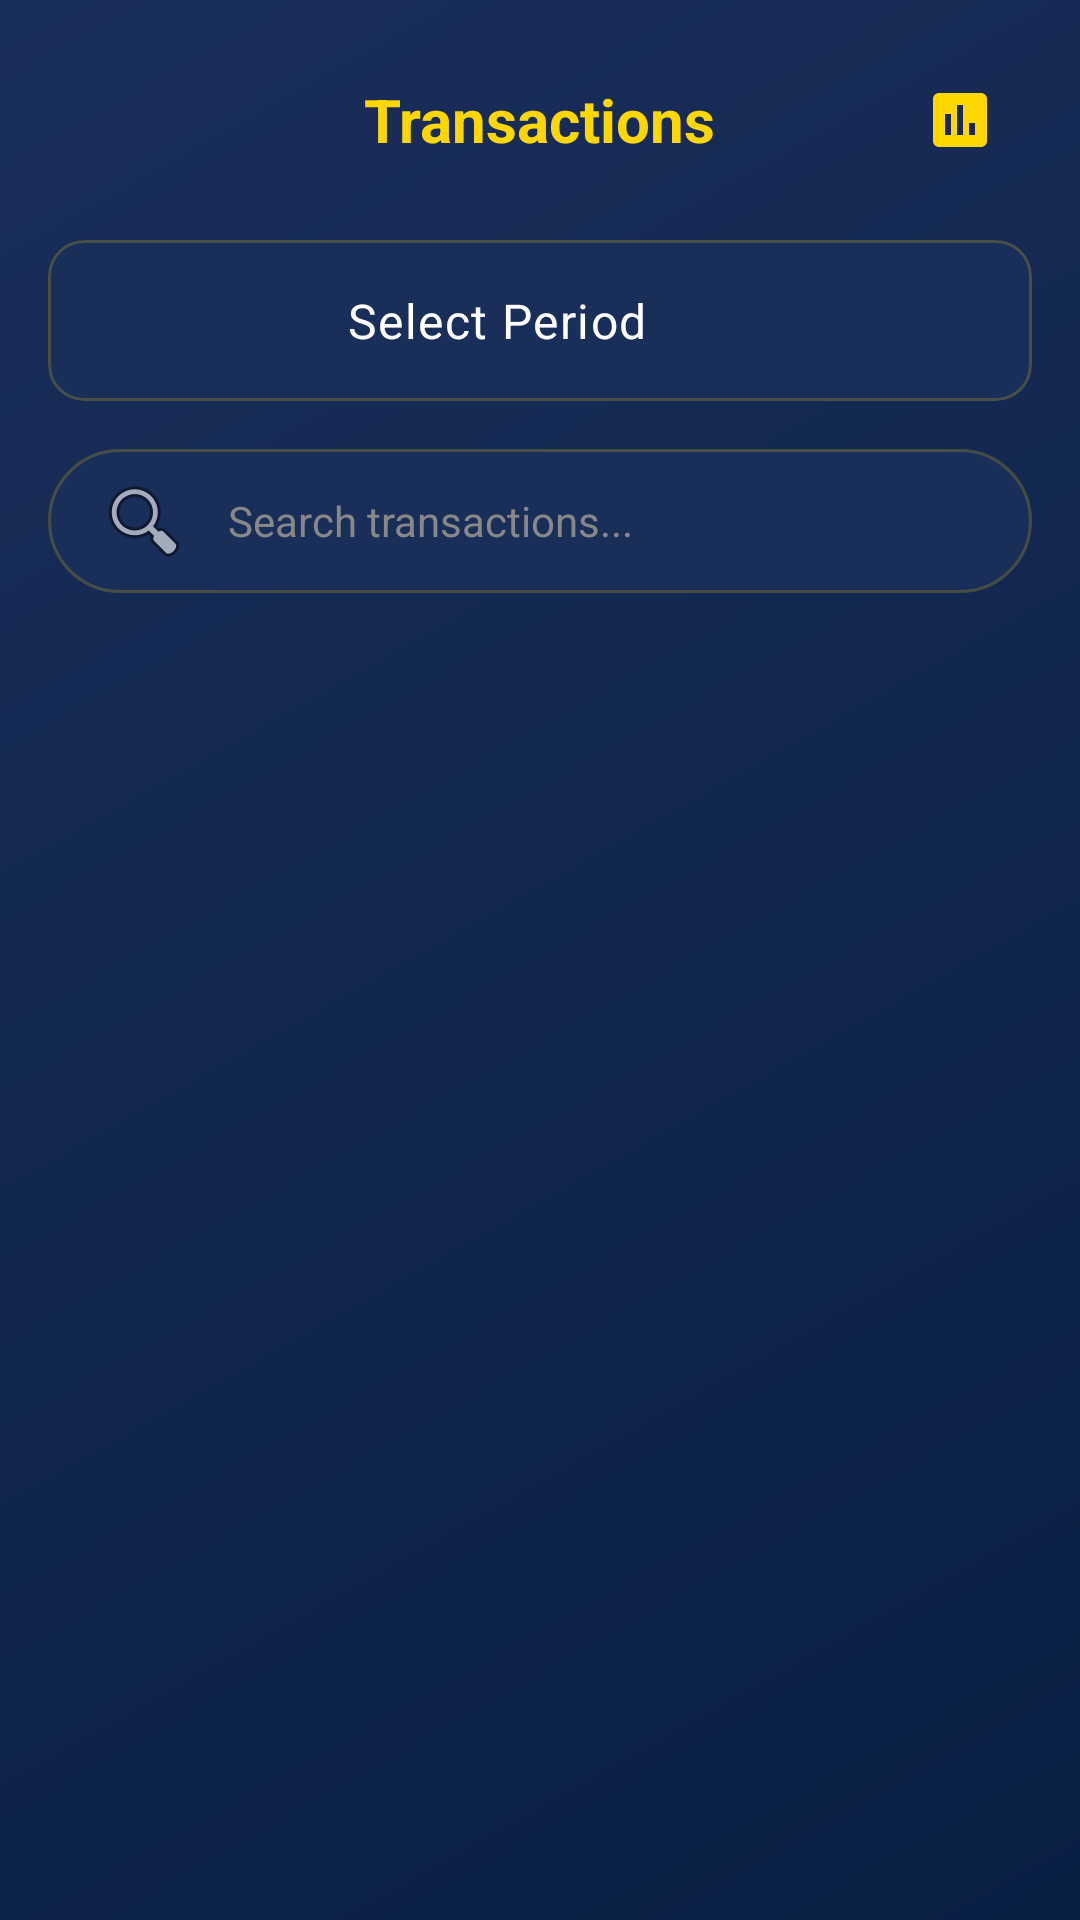

Named icons in this screenshot (1080w x 1920h) and their bounding boxes, bbox=(x1, y1, x2, y2):
Summary: bbox=(933, 93, 987, 147)
